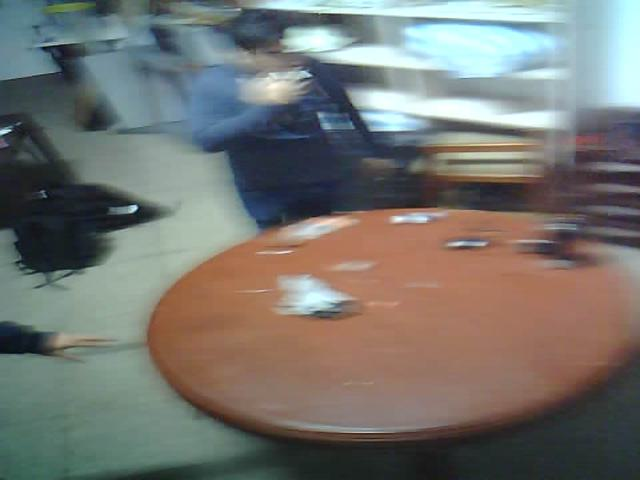person: (178, 16, 400, 236)
